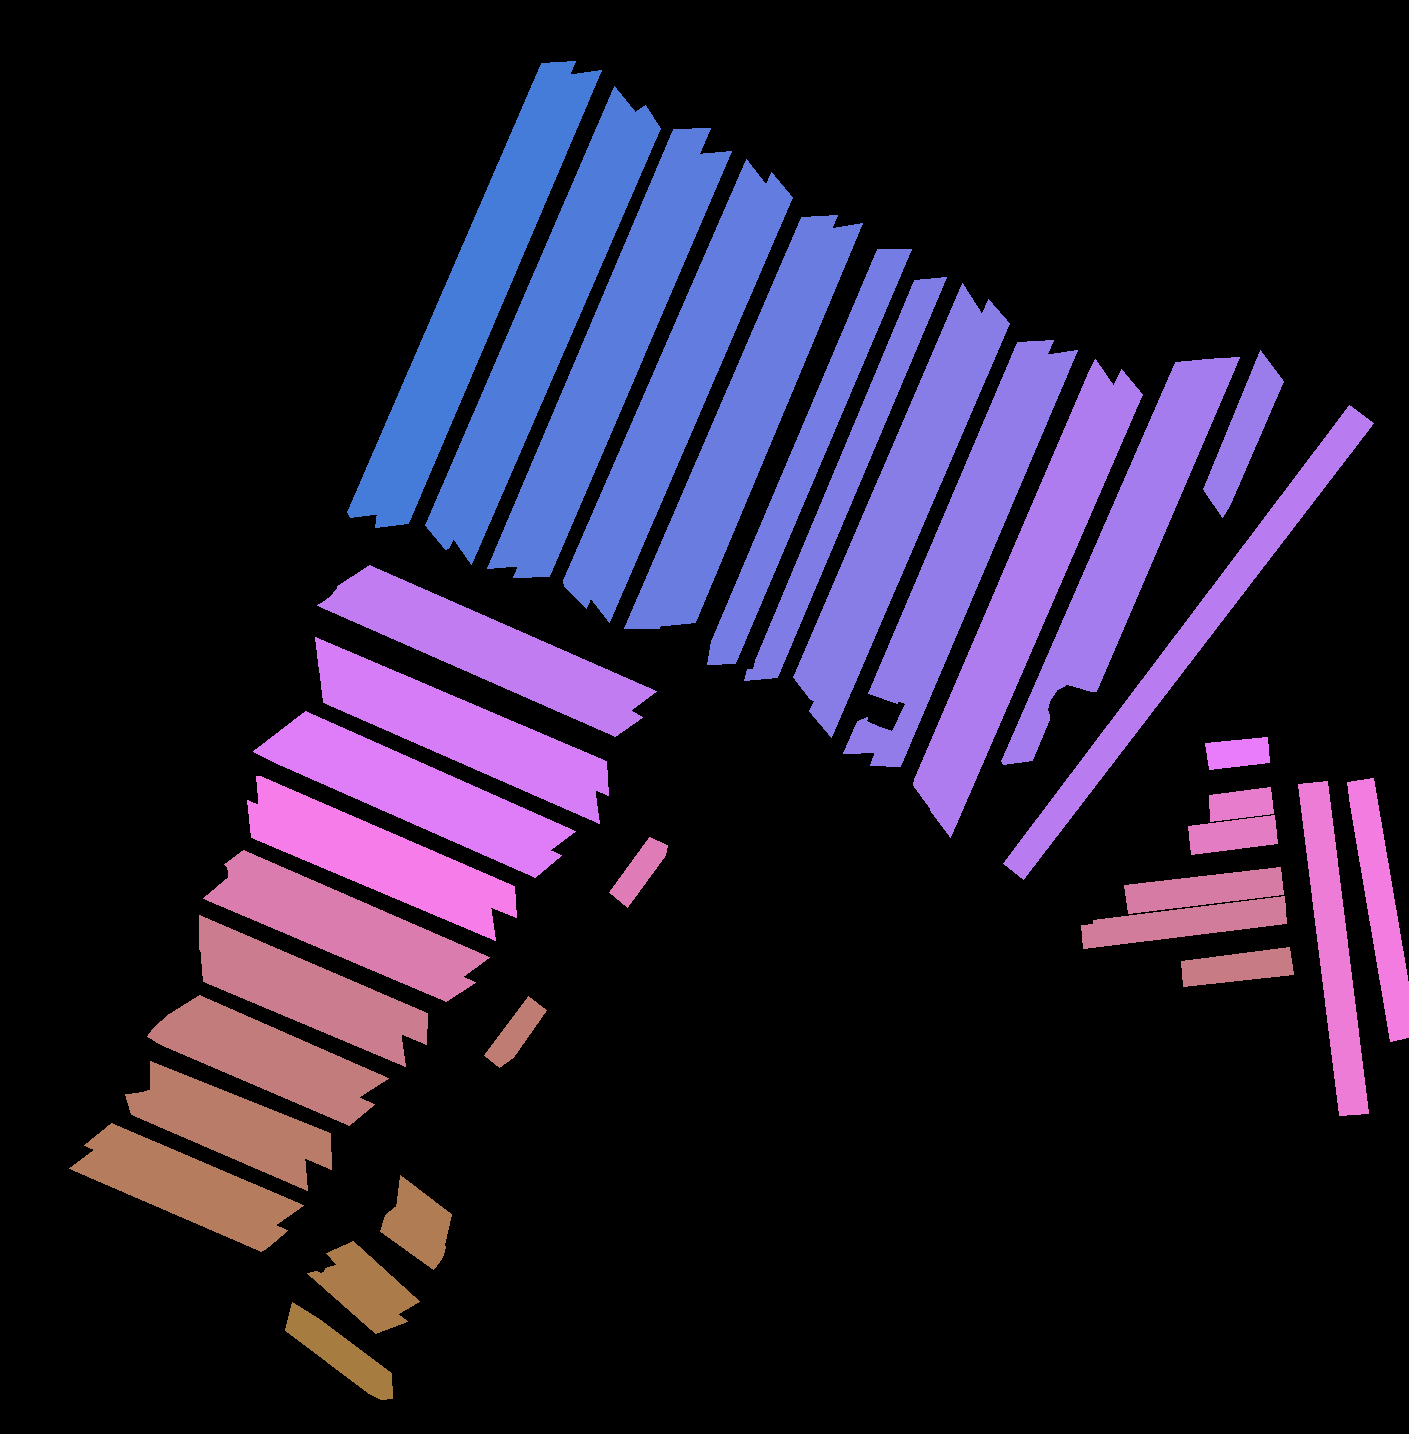parkingspot: (1003, 405, 1373, 879), (347, 61, 575, 518), (375, 70, 601, 527), (930, 369, 1142, 836), (486, 128, 710, 568), (425, 86, 636, 549), (450, 105, 661, 564), (514, 151, 732, 577), (588, 172, 792, 622), (563, 159, 766, 608), (914, 359, 1115, 811), (625, 216, 837, 629), (809, 299, 1009, 737), (870, 350, 1077, 765), (707, 249, 911, 663), (1001, 359, 1206, 764), (655, 223, 862, 626), (744, 278, 946, 680), (794, 283, 983, 702), (868, 339, 1053, 703), (1066, 358, 1239, 691), (317, 585, 643, 736), (337, 565, 655, 711), (315, 638, 608, 795), (253, 731, 561, 876), (319, 669, 599, 823), (279, 711, 575, 851), (255, 776, 516, 916), (246, 800, 495, 940), (203, 876, 475, 1002), (225, 851, 489, 976), (199, 915, 427, 1044), (147, 1015, 374, 1126), (200, 946, 405, 1066), (1298, 781, 1368, 1115), (84, 1123, 303, 1227), (166, 995, 388, 1098), (68, 1147, 286, 1251), (150, 1061, 332, 1169), (125, 1089, 307, 1190), (1347, 778, 1409, 1042), (1203, 350, 1283, 518), (1081, 896, 1286, 947), (285, 1302, 392, 1399), (1124, 867, 1283, 913), (307, 1264, 406, 1333), (326, 1240, 419, 1314), (484, 996, 546, 1067), (1181, 947, 1293, 986), (609, 836, 667, 907), (381, 1207, 445, 1269), (396, 1175, 452, 1246), (1188, 814, 1277, 854), (1209, 787, 1274, 821), (1205, 737, 1268, 769), (843, 718, 886, 752)
